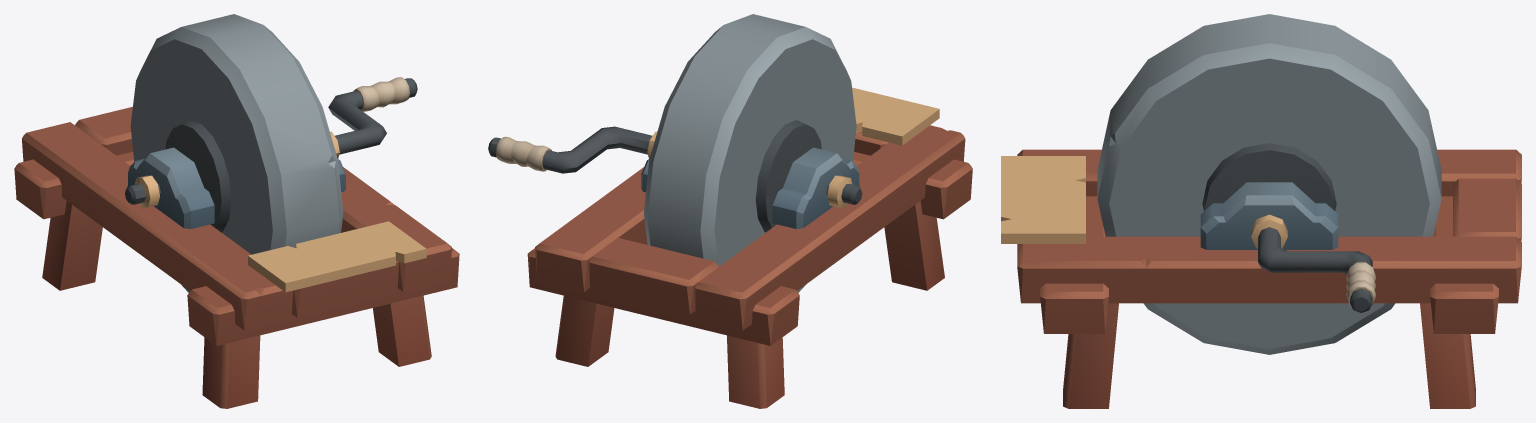
Rendered from grindstone.fbx.
The picture shows the model from 3 angles, left to right: view 1: azimuth 30°, elevation 25°; view 2: azimuth 150°, elevation 25°; view 3: azimuth 270°, elevation 25°; orthographic projection. The views are drawn at different scales.
Parts seen in each view (by area): view 1: grindstone, grindstone_wheel; view 2: grindstone, grindstone_wheel; view 3: grindstone_wheel, grindstone.
Part boxes in pixels (<box>): grindstone: <box>14,106,459,408</box>; grindstone_wheel: <box>125,14,417,292</box>; grindstone: <box>527,87,972,408</box>; grindstone_wheel: <box>488,14,862,292</box>; grindstone_wheel: <box>1097,14,1441,354</box>; grindstone: <box>1001,149,1521,408</box>.
Size of the model in its own units: 1.94 by 1.55 by 2.27.
